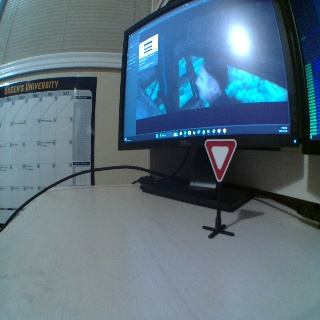sign_yield: (202, 138, 237, 181)
